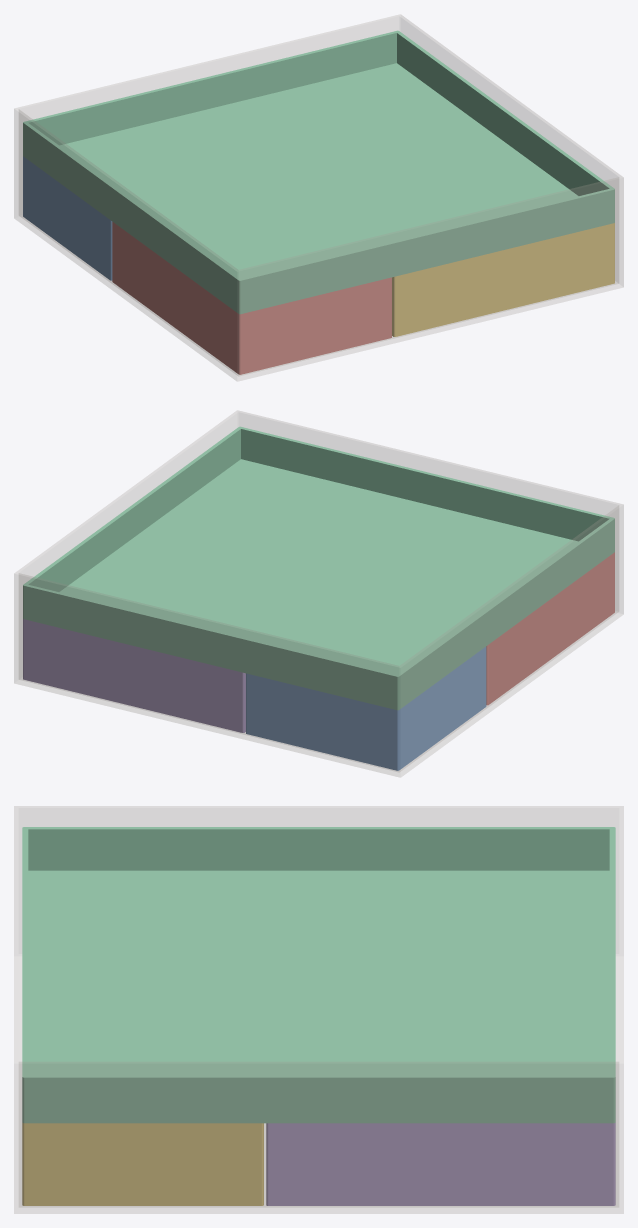
File: organizer.glb
The picture shows the model from 3 angles, top to bottom: view 1: azimuth 30°, elevation 25°; view 2: azimuth 150°, elevation 25°; view 3: azimuth 270°, elevation 25°; orthographic projection. The views are drawn at different scales.
Parts seen in each view (by area): view 1: Monster Kits (All Players), Game box (preview only), Power Card Deck, Energy Cubes, Dice Pool; view 2: Monster Kits (All Players), Game box (preview only), Dice Pool, Status & Special Tokens, Power Card Deck; view 3: Monster Kits (All Players), Game box (preview only), Status & Special Tokens, Energy Cubes.
Boxes of the visible parts, <box> form: Monster Kits (All Players): <box>23,30,614,314</box>; Game box (preview only): <box>14,14,623,381</box>; Power Card Deck: <box>112,222,391,374</box>; Energy Cubes: <box>392,223,614,336</box>; Dice Pool: <box>23,156,112,280</box>; Monster Kits (All Players): <box>23,426,614,710</box>; Game box (preview only): <box>14,410,623,777</box>; Dice Pool: <box>246,646,486,770</box>; Status & Special Tokens: <box>23,619,245,732</box>; Power Card Deck: <box>486,552,614,705</box>; Monster Kits (All Players): <box>22,827,615,1123</box>; Game box (preview only): <box>14,806,623,1213</box>; Status & Special Tokens: <box>266,1123,615,1205</box>; Energy Cubes: <box>22,1123,263,1205</box>.
Bounding box in the file's own units: 0.254 × 0.069 × 0.254.
